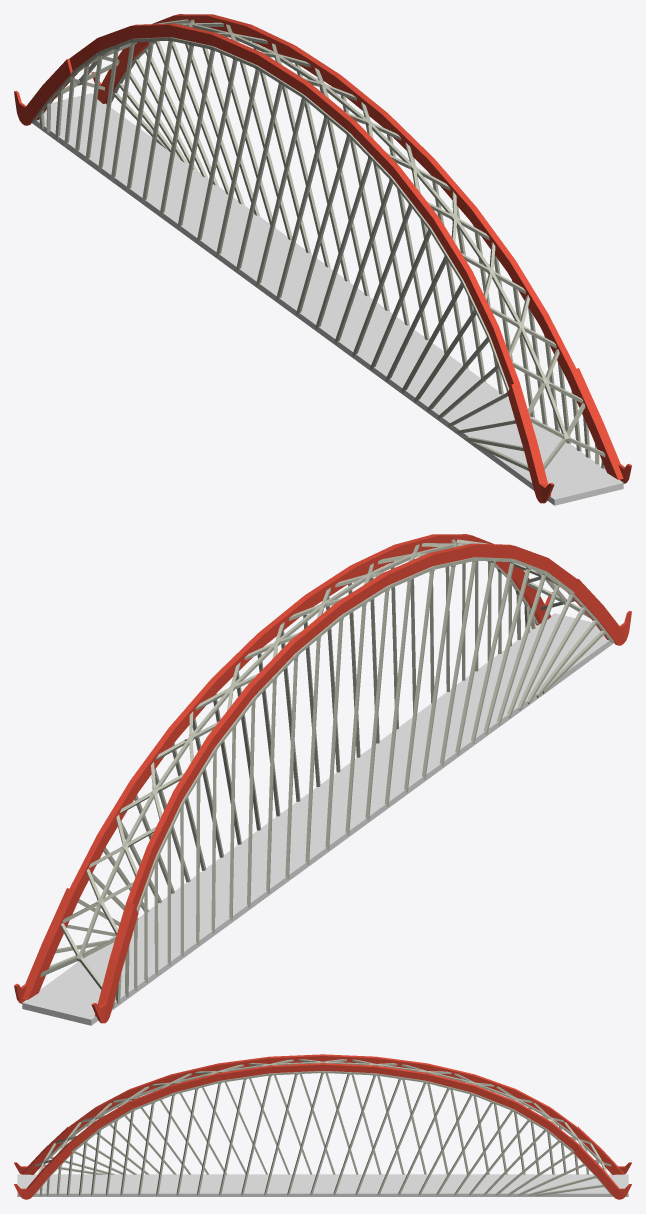
Rendered from bridge_bugrinka.fbx.
The picture shows the model from 3 angles, top to bottom: view 1: azimuth 30°, elevation 25°; view 2: azimuth 150°, elevation 25°; view 3: azimuth 270°, elevation 25°; orthographic projection. The views are drawn at different scales.
Parts seen in each view (by area): view 1: Cube.017, Circle.010, Circle.005, Circle.009, Circle.008, Circle.011; view 2: Cube.017, Circle.010, Circle.005, Circle.009, Circle.008, Circle.011; view 3: Cube.017, Circle.009, Circle.005, Circle.010, Circle.008, Circle.011.
Part boxes in pixels (box(x1,y1,x2,y2)): Cube.017: box(32, 93, 623, 505); Circle.010: box(31, 37, 529, 471); Circle.005: box(37, 14, 623, 496); Circle.009: box(111, 40, 605, 469); Circle.008: box(55, 19, 605, 469); Circle.011: box(14, 58, 631, 503); Cube.017: box(22, 613, 613, 1025); Circle.010: box(112, 557, 614, 1008); Circle.005: box(22, 534, 608, 1016); Circle.009: box(49, 561, 538, 968); Circle.008: box(40, 539, 590, 989); Circle.011: box(14, 578, 631, 1023); Cube.017: box(17, 1174, 628, 1196); Circle.009: box(34, 1071, 611, 1196); Circle.005: box(22, 1054, 623, 1188); Circle.010: box(44, 1073, 605, 1174); Circle.008: box(34, 1059, 611, 1174); Circle.011: box(14, 1127, 631, 1199).
Bounding box in the file's own units: 1449 × 3710 × 16168.
